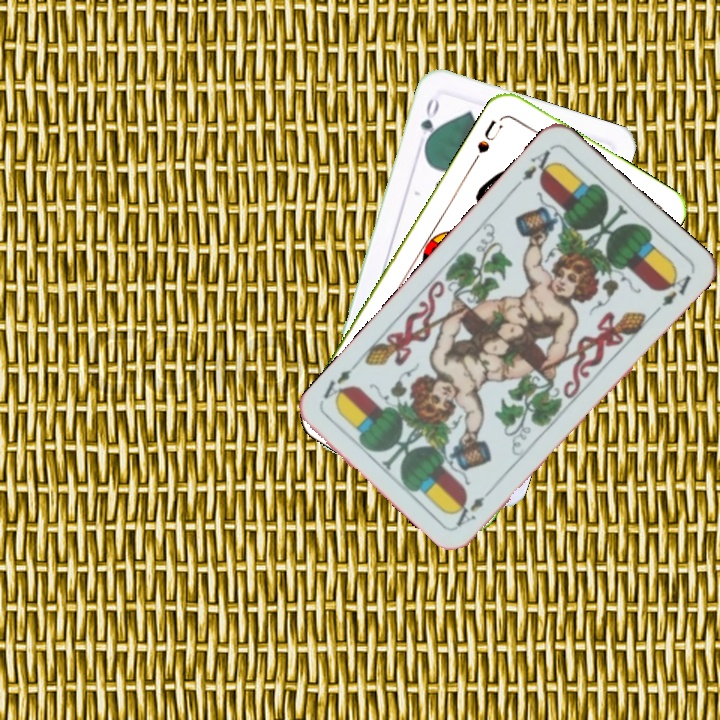EA: (510, 143, 558, 191), (451, 482, 497, 530)
GO: (416, 93, 442, 151)
SU: (469, 113, 507, 166)
